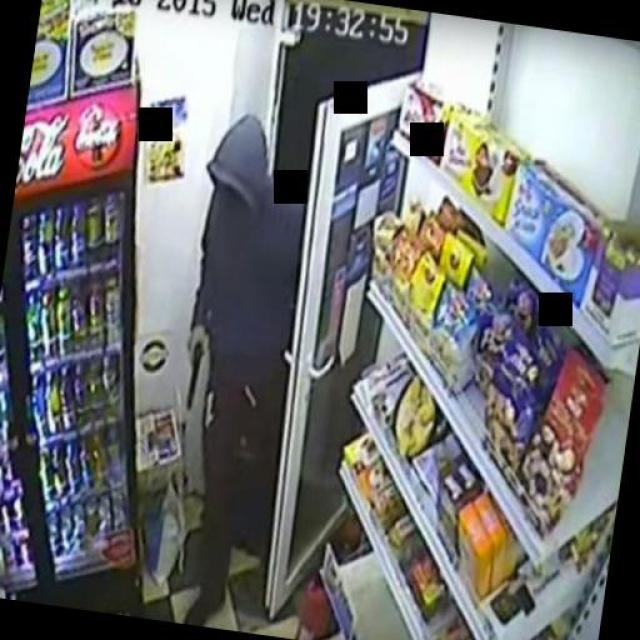gun: (178, 330, 206, 408)
